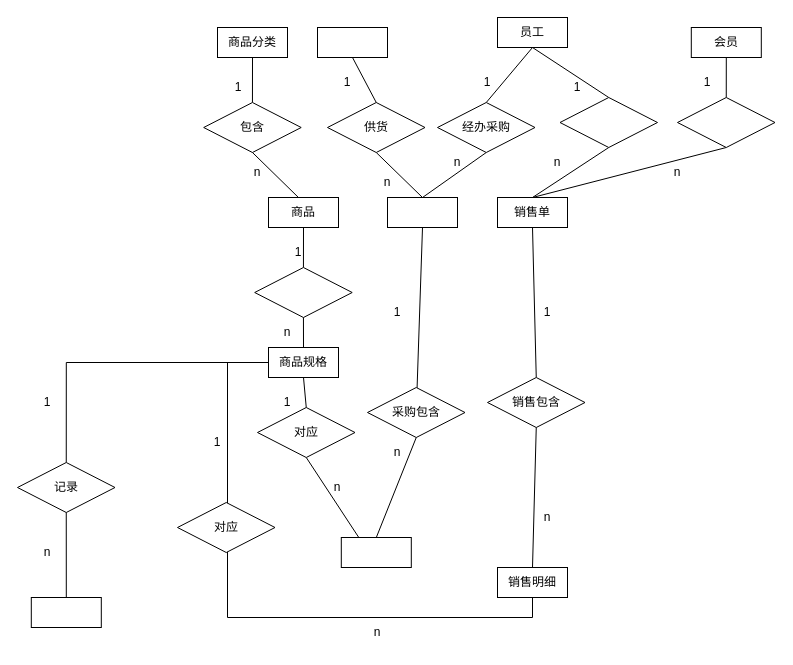
The diagram is 793 pixels wide and 665 high, and some of its shapes have lost their labels. Here are the shapes that lost their labels. From the top down, the centre of each, then its label:
At (x=352, y=42): "供应商".
At (x=608, y=122): "经办销售".
At (x=725, y=122): "下单".
At (x=422, y=212): "采购单".
At (x=303, y=292): "拥有".
At (x=375, y=552): "采购明细".
At (x=65, y=612): "库存流水".
